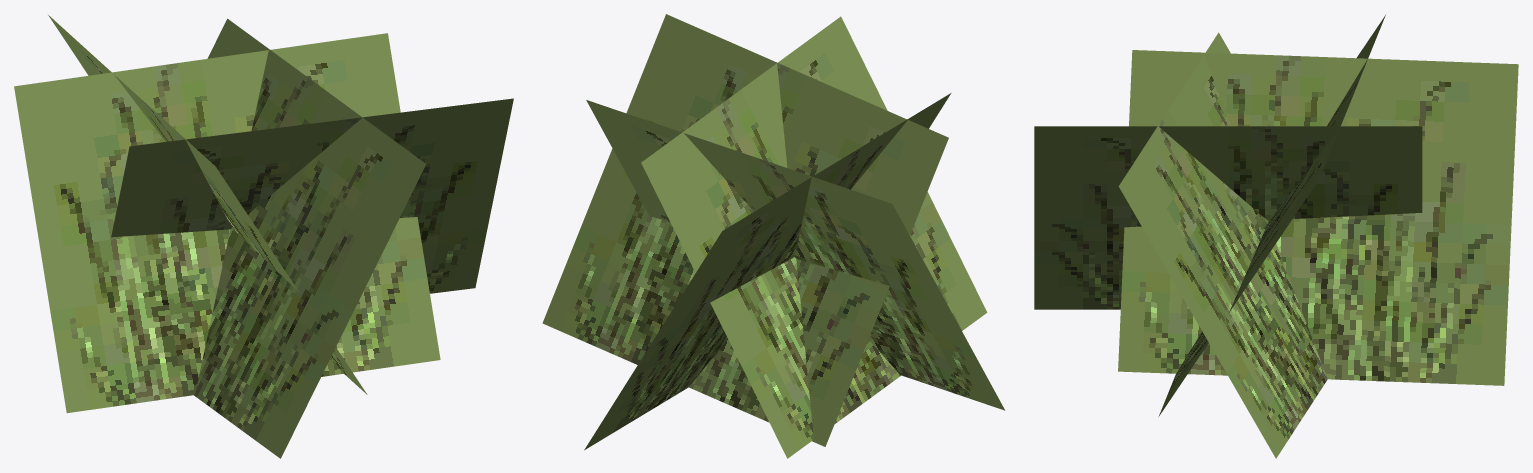
File: wrld_fol_grasscluster_a_3.glb
3 views of the same model, side by side, from view 1: azimuth 30°, elevation 25°; view 2: azimuth 150°, elevation 25°; view 3: azimuth 270°, elevation 25° (orthographic). The views are drawn at different scales.
Parts seen in each view (by area): view 1: wrld_fol_grasscluster_a_3; view 2: wrld_fol_grasscluster_a_3; view 3: wrld_fol_grasscluster_a_3.
Boxes of the visible parts, left/top/right/bottom form: wrld_fol_grasscluster_a_3: left=14, top=15, right=513, bottom=458; wrld_fol_grasscluster_a_3: left=542, top=14, right=1005, bottom=458; wrld_fol_grasscluster_a_3: left=1034, top=15, right=1518, bottom=458.
Bounding box in the file's own units: 2.76 × 1.6 × 2.73.
Materials: 1 (1 with a texture image).
